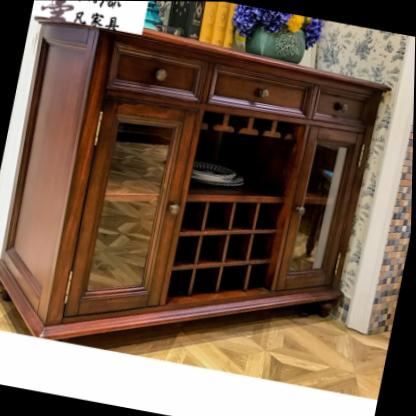Cupboard: (0, 18, 391, 355)
